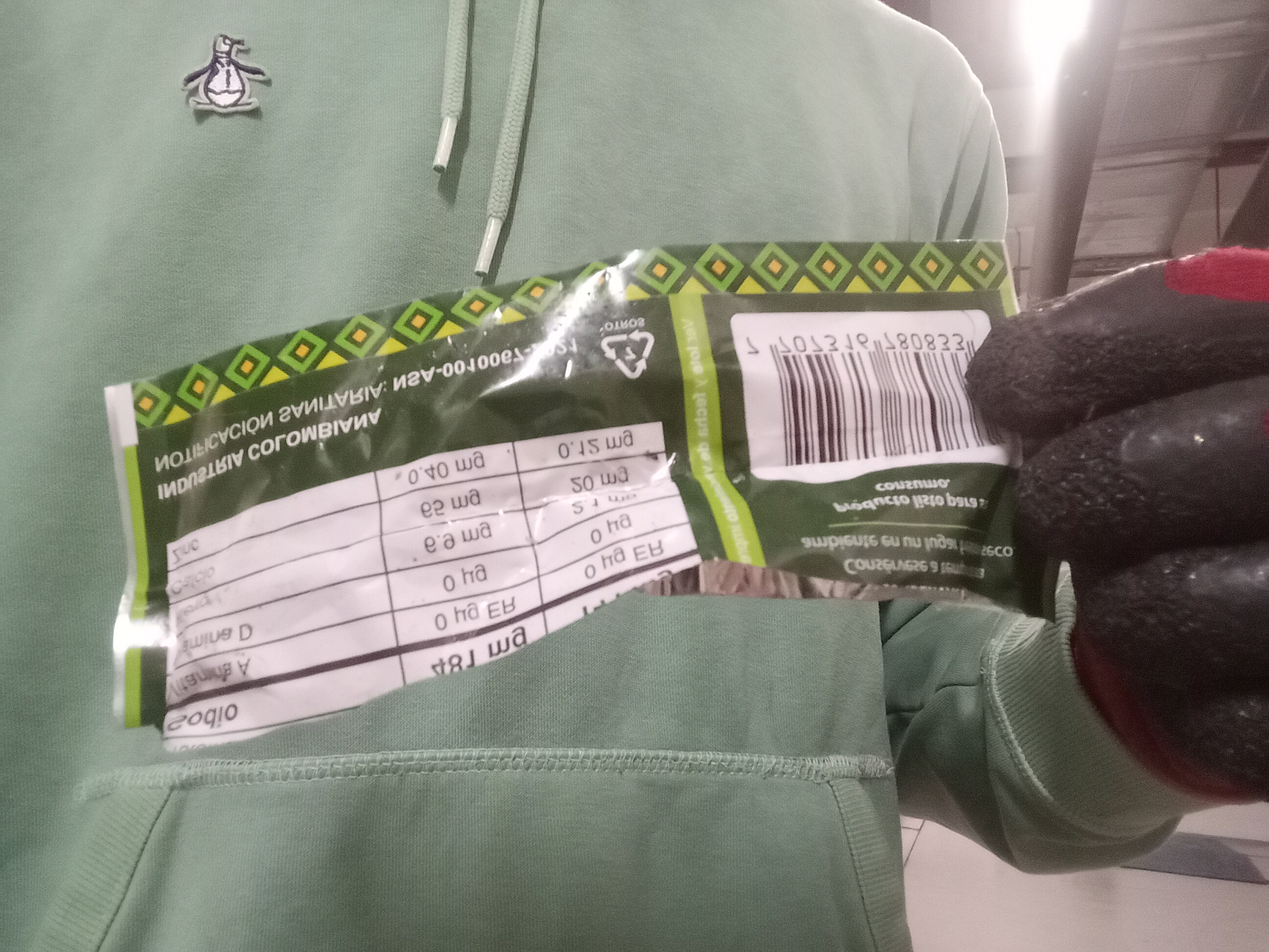Ordinario: (105, 238, 1058, 752)
